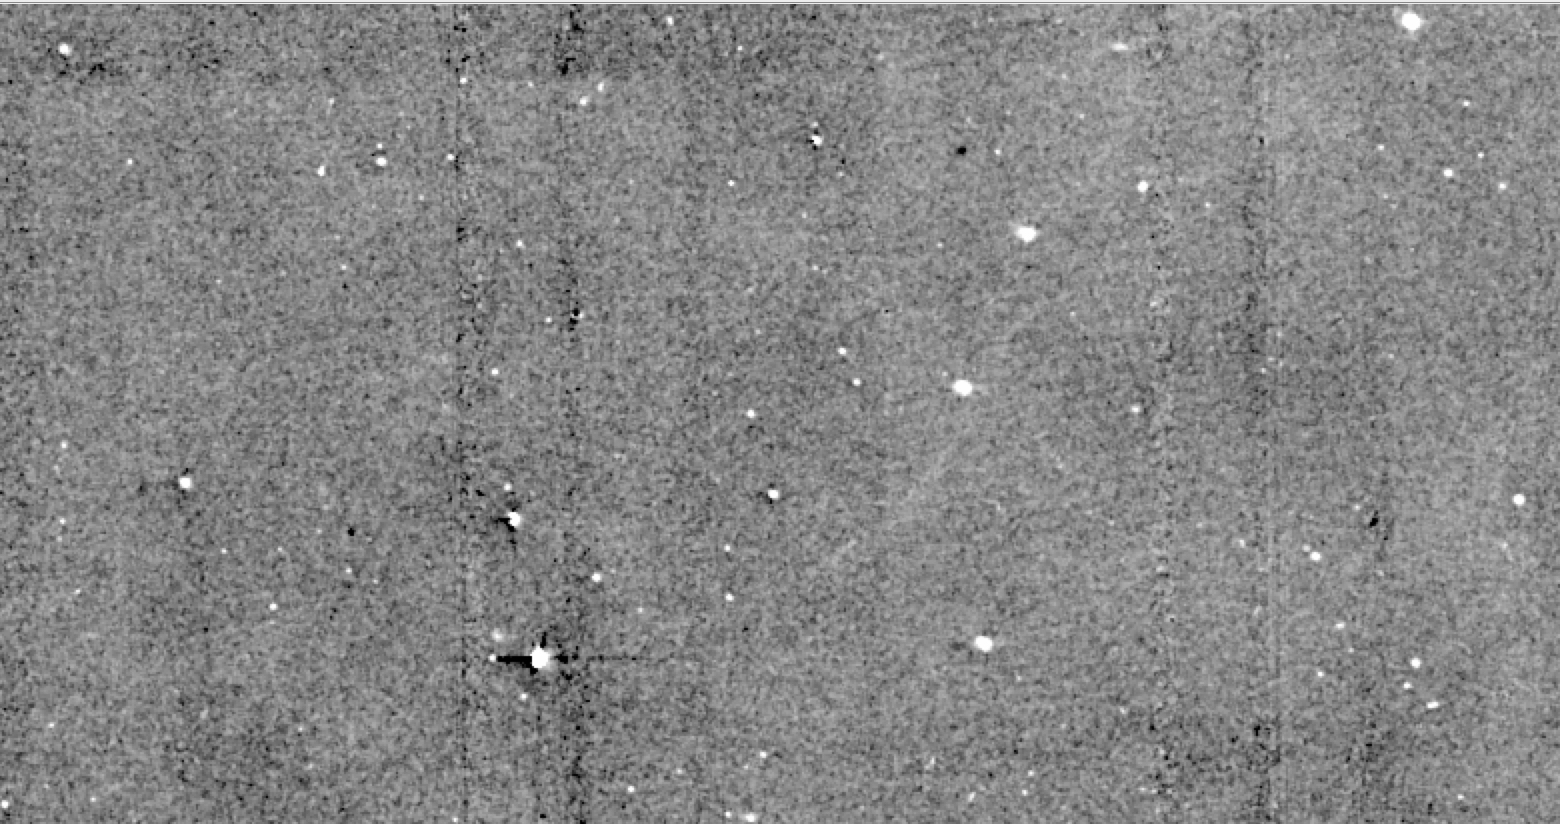Halpha: (709, 213, 1122, 640)
